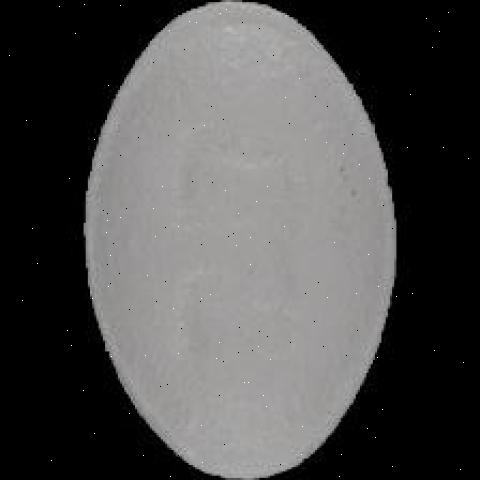Pill: (33, 2, 434, 480)
